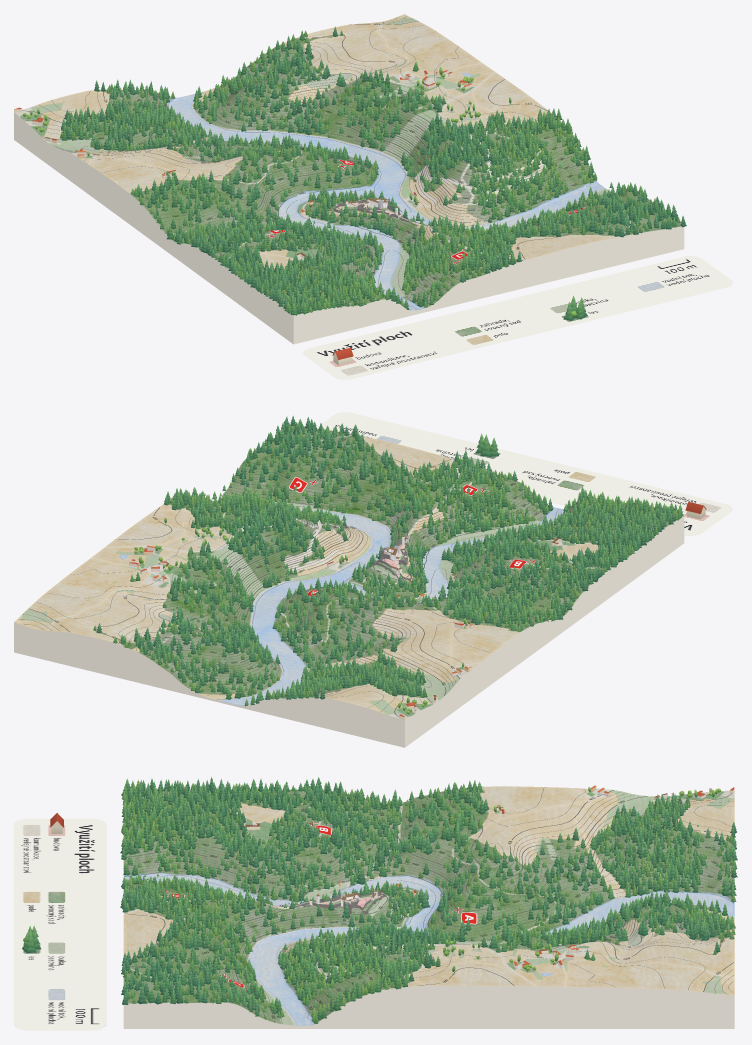
The model's file is Zvikov_sada3_otazka2.glb.
The picture shows the model from 3 angles, top to bottom: view 1: azimuth 30°, elevation 25°; view 2: azimuth 150°, elevation 25°; view 3: azimuth 270°, elevation 25°; orthographic projection. The views are drawn at different scales.
Visible parts, largest first — view 1: DMR_1953, Zvikov_stromy_body_SMO5, legenda_panel, vrstevnice, Zvikov_SMO5_budovy, Node0, legenda_objekty; view 2: DMR_1953, Zvikov_stromy_body_SMO5, legenda_panel, vrstevnice, Zvikov_SMO5_budovy, Node0, legenda_objekty, popisky; view 3: DMR_1953, Zvikov_stromy_body_SMO5, legenda_panel, vrstevnice, Zvikov_SMO5_budovy, Node0, popisky, legenda_objekty.
Part boxes in pixels (bbox=[...]): DMR_1953: bbox=[14, 14, 684, 344]; Zvikov_stromy_body_SMO5: bbox=[23, 26, 686, 315]; legenda_panel: bbox=[303, 256, 732, 379]; vrstevnice: bbox=[22, 16, 678, 309]; Zvikov_SMO5_budovy: bbox=[14, 70, 471, 258]; Node0: bbox=[328, 197, 411, 222]; legenda_objekty: bbox=[332, 295, 587, 365]; DMR_1953: bbox=[14, 425, 684, 747]; Zvikov_stromy_body_SMO5: bbox=[93, 415, 683, 714]; legenda_panel: bbox=[316, 412, 732, 535]; vrstevnice: bbox=[19, 430, 624, 716]; Zvikov_SMO5_budovy: bbox=[129, 538, 561, 719]; Node0: bbox=[373, 535, 411, 583]; legenda_objekty: bbox=[476, 433, 706, 519]; popisky: bbox=[54, 438, 570, 692]; DMR_1953: bbox=[123, 786, 734, 1028]; Zvikov_stromy_body_SMO5: bbox=[120, 777, 737, 1023]; legenda_panel: bbox=[14, 818, 106, 1030]; vrstevnice: bbox=[124, 787, 733, 1023]; Zvikov_SMO5_budovy: bbox=[246, 785, 734, 968]; Node0: bbox=[295, 889, 386, 914]; popisky: bbox=[133, 794, 724, 1018]; legenda_objekty: bbox=[22, 813, 63, 953].
Bounding box in the file's own units: 1491 × 188 × 2151.
11 materials, 7 textured.
